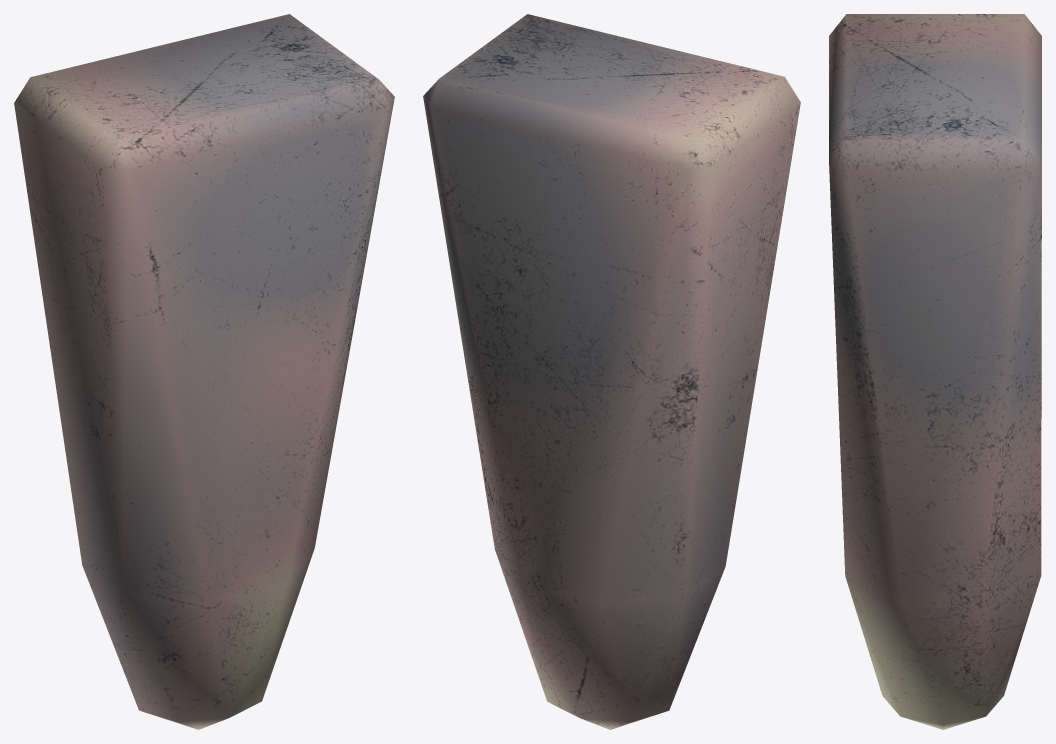
File: SM_RefinedMineral_5.fbx
3 renders of one model, left to right at view 1: azimuth 30°, elevation 25°; view 2: azimuth 150°, elevation 25°; view 3: azimuth 270°, elevation 25°, orthographic.
Parts seen in each view (by area): view 1: SM_RefinedMineral_5; view 2: SM_RefinedMineral_5; view 3: SM_RefinedMineral_5.
Part boxes in pixels (left/top/right/bottom): SM_RefinedMineral_5: left=14, top=14, right=394, bottom=729; SM_RefinedMineral_5: left=423, top=14, right=800, bottom=729; SM_RefinedMineral_5: left=829, top=14, right=1041, bottom=729.
Bounding box in the file's own units: 0.2479 × 0.1566 × 0.5303.
